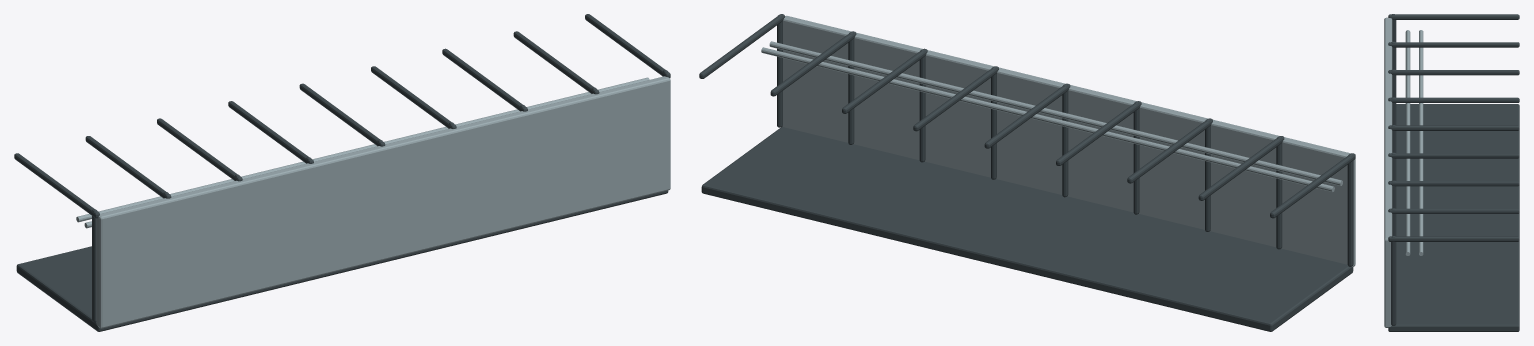
The model's file is shaft.glb.
3 views of the same model, side by side, from view 1: azimuth 30°, elevation 25°; view 2: azimuth 150°, elevation 25°; view 3: azimuth 270°, elevation 25° (orthographic). The views are drawn at different scales.
Parts seen in each view (by area): view 1: shaft-galvanized edges, shaft-forged graphite steel; view 2: shaft-forged graphite steel, shaft-galvanized edges; view 3: shaft-forged graphite steel, shaft-galvanized edges.
Boxes of the visible parts, x1,y1,x2,y2 form: shaft-galvanized edges: (76, 76, 670, 328); shaft-forged graphite steel: (14, 14, 670, 331); shaft-forged graphite steel: (699, 14, 1355, 331); shaft-galvanized edges: (761, 15, 1355, 266); shaft-forged graphite steel: (1388, 14, 1519, 331); shaft-galvanized edges: (1384, 17, 1423, 327).
Size of the model in its own units: 8.07 by 1.62 by 2.06.
